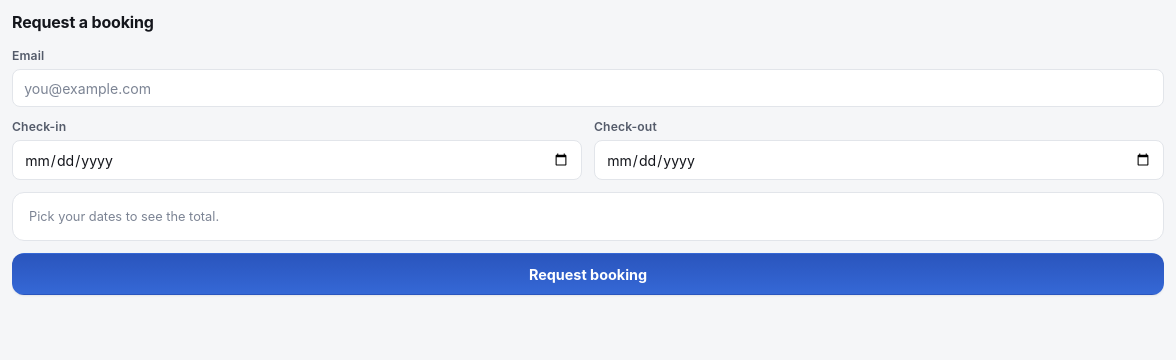
Test: BookingPanel › shows a live price summary once dates are chosen (ADR 0051)
The image size is (1176, 360).
Expected: the text "Pick your dates to see the total." is shown, [29,209,219,224]
Type "2025-05-01" into the date field labelled "Check-in" at (297, 160), box [12,140,582,180]
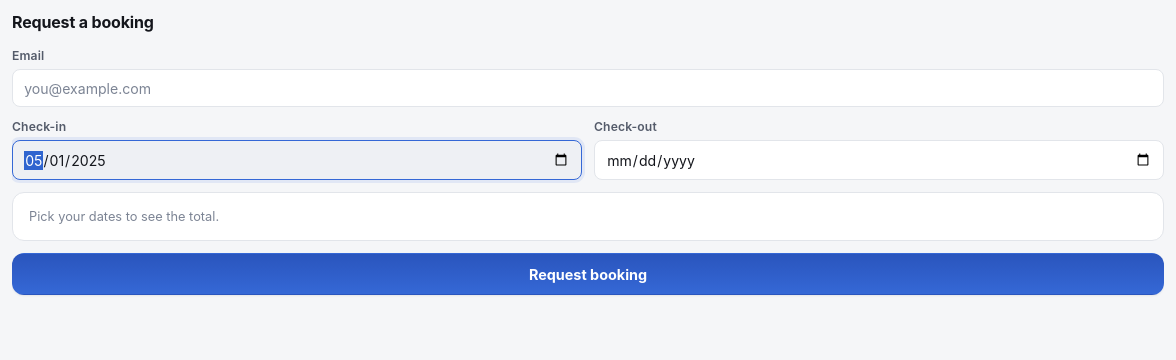
Type "2025-05-03" into the date field labelled "Check-out" at (879, 160), box [594,140,1164,180]
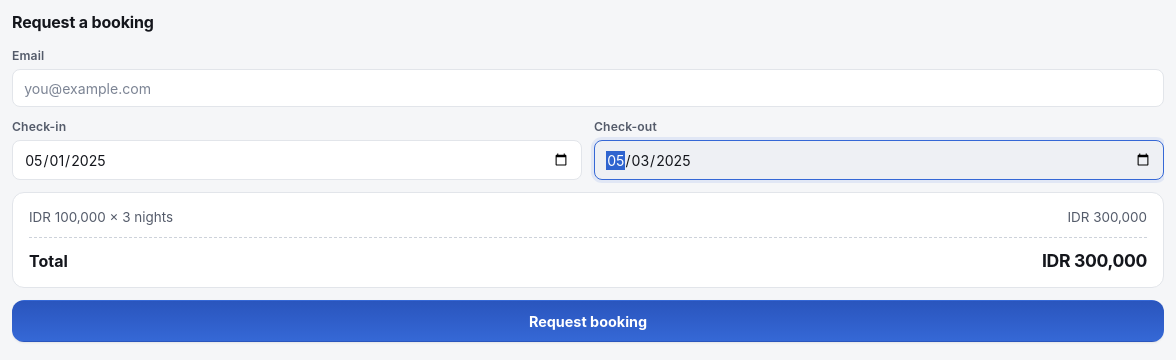
Expected: the text "Total" is shown, [29,251,68,271]
Now the text "IDR 300,000" in the row of "night" is shown, box [1093,209,1147,225]
